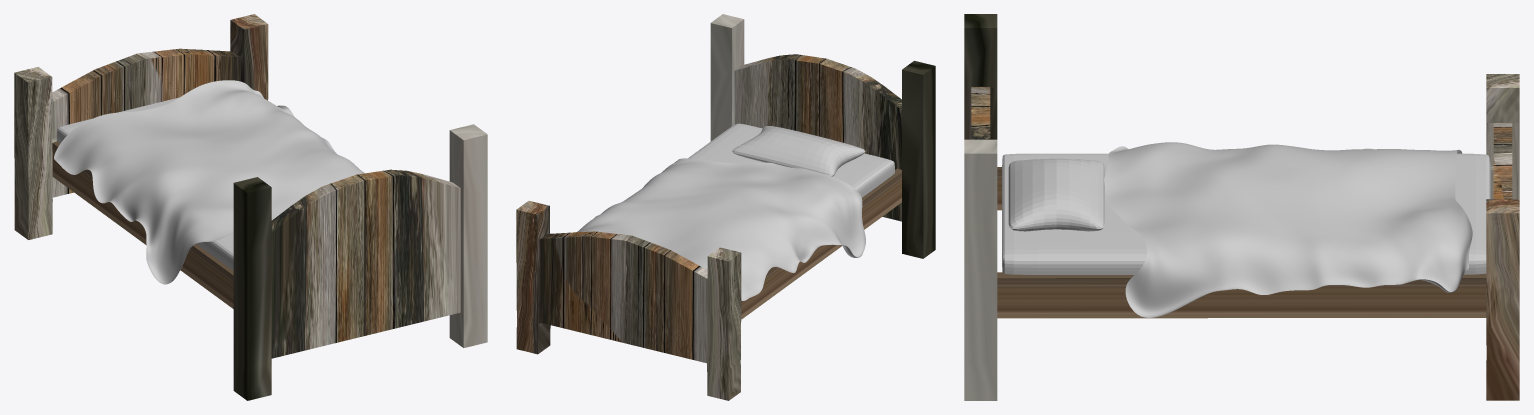
File: Cama.fbx
The picture shows the model from 3 angles, left to right: view 1: azimuth 30°, elevation 25°; view 2: azimuth 150°, elevation 25°; view 3: azimuth 270°, elevation 25°; orthographic projection. The views are drawn at different scales.
Parts seen in each view (by area): view 1: Cube.001; view 2: Cube.001; view 3: Cube.001.
Part boxes in pixels (x1=…): Cube.001: x1=14, y1=14, x2=487, y2=400; Cube.001: x1=516, y1=14, x2=935, y2=400; Cube.001: x1=964, y1=14, x2=1519, y2=400.
Bounding box in the file's own units: 1.5 × 1.23 × 2.49.
